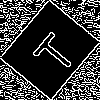T: (24, 25, 80, 78)
